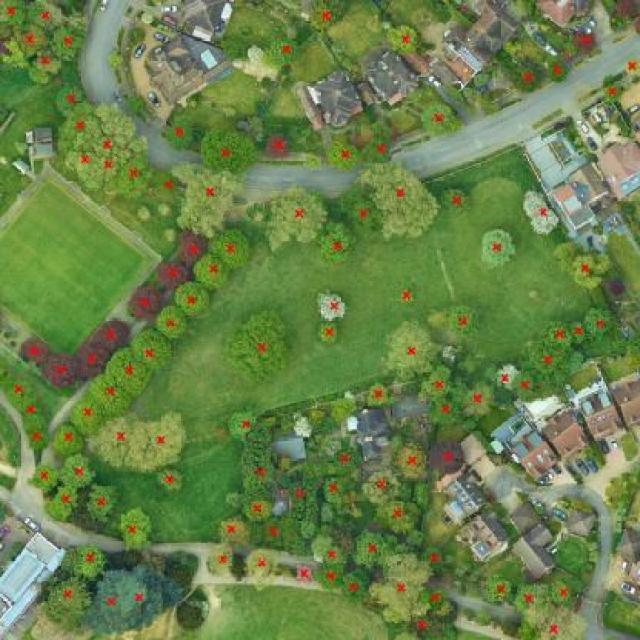tree: (353, 151, 445, 247), (161, 158, 256, 241), (217, 303, 305, 391), (256, 181, 335, 256), (367, 555, 435, 627), (378, 316, 445, 382), (83, 404, 146, 471), (120, 558, 171, 640), (326, 182, 385, 251), (36, 572, 96, 638), (134, 402, 192, 470), (511, 597, 597, 640), (81, 561, 127, 640), (229, 441, 286, 497), (91, 90, 144, 150), (196, 126, 265, 172), (101, 345, 158, 400), (350, 464, 416, 511), (122, 329, 185, 378), (59, 147, 110, 205), (85, 368, 138, 423), (368, 489, 424, 540), (516, 183, 565, 240), (50, 98, 93, 162), (473, 220, 522, 275), (208, 217, 257, 272), (348, 526, 403, 575), (113, 146, 162, 200), (511, 342, 567, 388), (313, 215, 358, 270), (389, 431, 434, 486), (42, 472, 86, 528), (112, 502, 156, 558), (426, 431, 472, 484), (570, 250, 619, 299), (168, 273, 217, 321), (246, 512, 302, 554), (186, 254, 242, 294), (441, 296, 487, 344), (143, 258, 195, 300), (454, 376, 501, 422), (65, 387, 109, 436), (152, 297, 196, 345), (580, 301, 623, 350), (70, 336, 115, 382), (302, 0, 353, 40), (417, 96, 461, 142), (37, 348, 81, 394), (81, 477, 122, 526), (48, 21, 94, 64), (122, 278, 165, 324), (420, 392, 468, 433), (383, 18, 425, 64), (413, 360, 459, 402), (530, 316, 572, 361), (55, 446, 96, 492), (158, 107, 197, 155), (89, 314, 134, 355), (67, 538, 107, 584), (241, 540, 277, 591), (322, 132, 364, 175), (304, 532, 351, 570), (0, 368, 42, 409), (25, 0, 71, 37), (506, 58, 546, 100), (506, 578, 552, 614), (22, 458, 62, 499), (259, 124, 296, 168), (51, 74, 88, 118), (6, 393, 51, 429), (148, 464, 194, 499), (236, 493, 279, 530), (12, 332, 56, 368), (312, 474, 357, 509), (277, 474, 311, 520), (168, 226, 207, 266), (439, 180, 475, 223), (557, 28, 605, 60), (151, 166, 189, 206), (49, 424, 89, 462), (505, 368, 547, 404), (399, 615, 459, 640), (221, 405, 259, 444), (214, 29, 254, 66), (267, 34, 305, 72), (309, 556, 348, 593), (326, 440, 362, 480), (550, 233, 579, 282), (313, 288, 352, 324), (480, 568, 515, 608), (358, 131, 395, 168), (199, 542, 236, 579), (360, 372, 392, 414), (336, 570, 378, 602), (6, 27, 52, 56), (0, 35, 35, 73), (212, 513, 252, 545), (546, 574, 583, 608), (0, 0, 34, 35), (564, 315, 591, 358), (86, 128, 126, 157), (418, 582, 453, 615), (543, 52, 574, 89), (98, 146, 130, 180), (29, 51, 66, 80), (21, 425, 53, 458), (311, 318, 344, 350), (418, 545, 452, 574), (19, 63, 50, 92), (290, 410, 316, 444), (126, 91, 155, 120), (300, 150, 329, 178), (489, 364, 520, 390), (607, 0, 640, 24), (102, 47, 129, 76), (291, 558, 315, 590), (596, 79, 624, 106), (615, 197, 640, 226), (156, 224, 185, 248), (618, 56, 640, 82), (396, 284, 419, 308)
